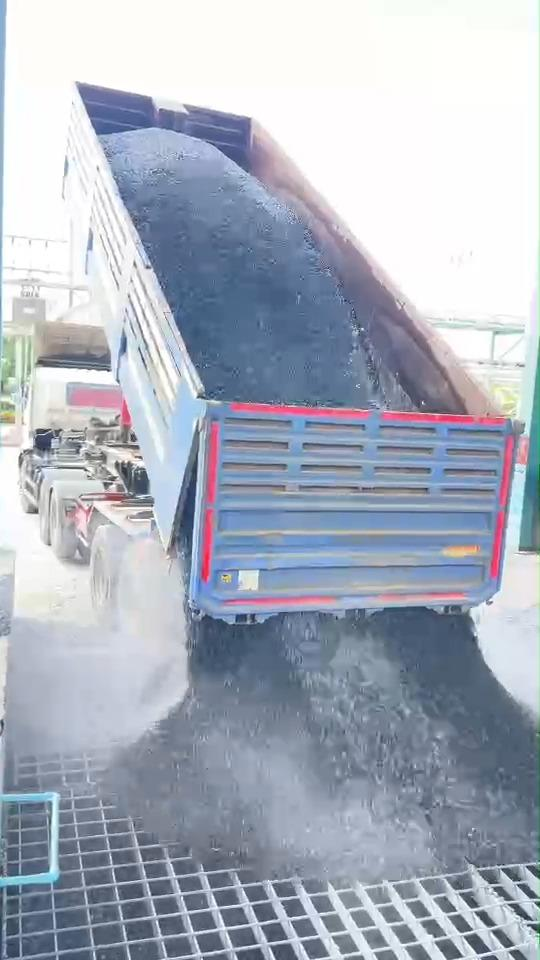gravel: (111, 610, 537, 881), (101, 128, 409, 408)
